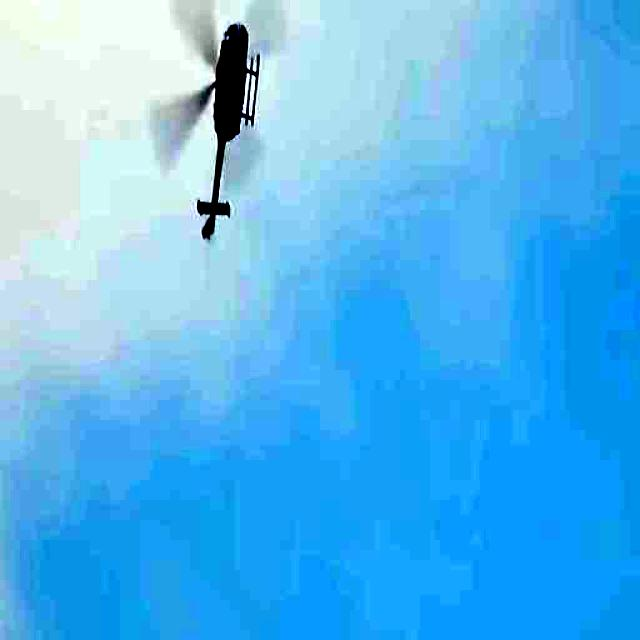drone: (159, 0, 266, 275)
